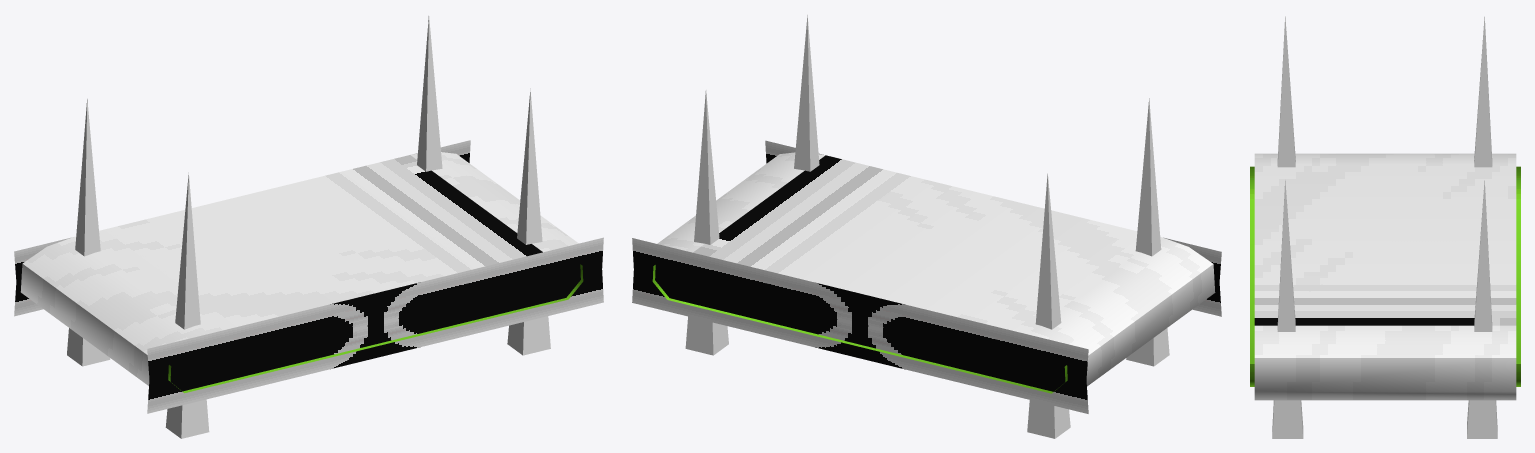
3 views of the same model, side by side, from view 1: azimuth 30°, elevation 25°; view 2: azimuth 150°, elevation 25°; view 3: azimuth 270°, elevation 25° (orthographic).
Parts seen in each view (by area): view 1: 3931kg3_gs23; view 2: 3931kg3_gs23; view 3: 3931kg3_gs23.
Boxes of the visible parts, x1,y1,x2,y2 form: 3931kg3_gs23: [14, 16, 603, 438]; 3931kg3_gs23: [632, 15, 1221, 438]; 3931kg3_gs23: [1250, 16, 1520, 438].
Size of the model in its own units: 1.96 by 1.06 by 1.03.
Materials: 3 (3 with a texture image).
